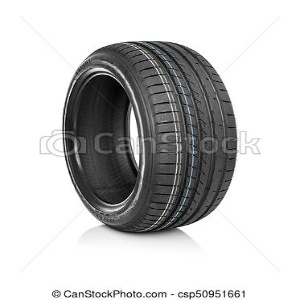tire: (63, 40, 239, 232)
